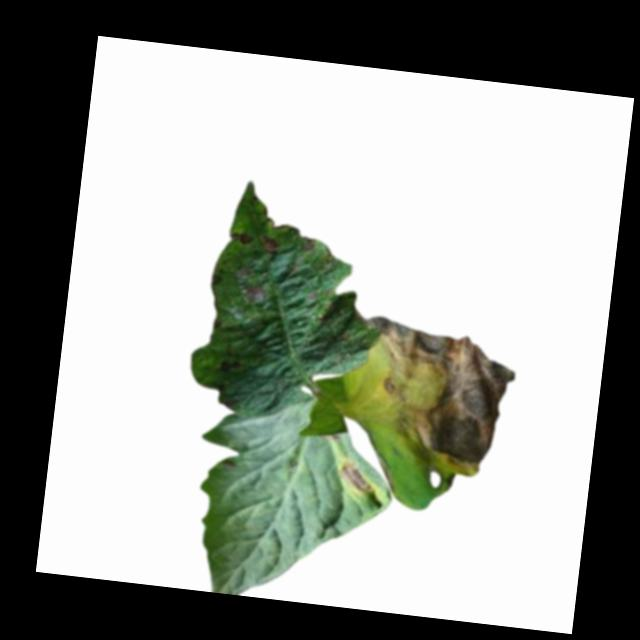Early_blight: (350, 307, 526, 489), (337, 463, 374, 497), (224, 229, 258, 250), (261, 233, 283, 255), (243, 285, 268, 304), (302, 236, 319, 254)
